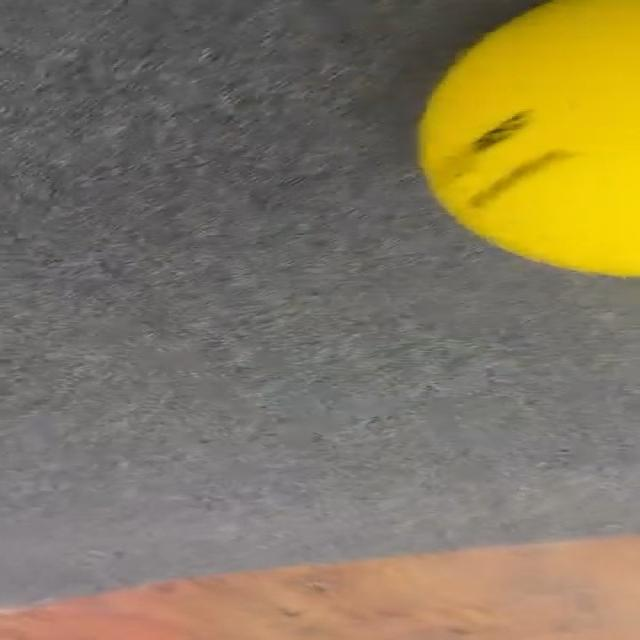Fuels: (409, 0, 640, 277)
